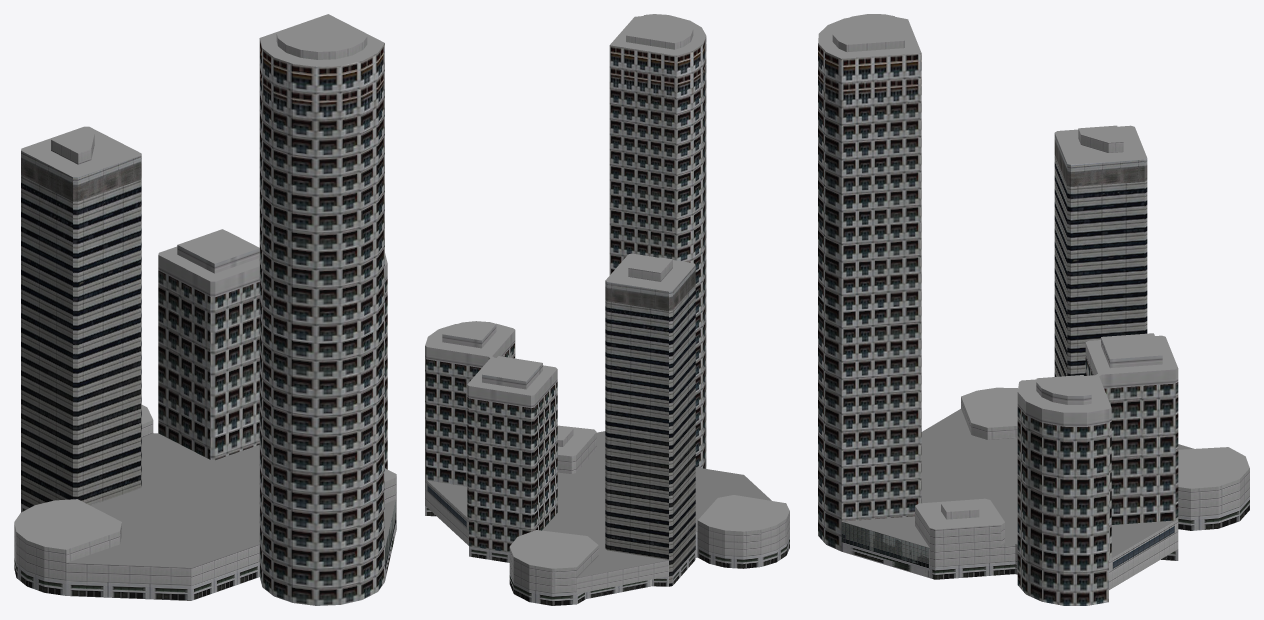
File: building_lecheng.glb
The picture shows the model from 3 angles, left to right: view 1: azimuth 30°, elevation 25°; view 2: azimuth 150°, elevation 25°; view 3: azimuth 270°, elevation 25°; orthographic projection. The views are drawn at different scales.
Visible parts, largest first — view 1: Group002; view 2: Group002; view 3: Group002.
Boxes of the visible parts, x1=… form: Group002: x1=14, y1=14, x2=396, y2=605; Group002: x1=425, y1=14, x2=789, y2=605; Group002: x1=818, y1=14, x2=1249, y2=605.
Size of the model in its own units: 181 by 240 by 188.
Materials: 1 (1 with a texture image).
